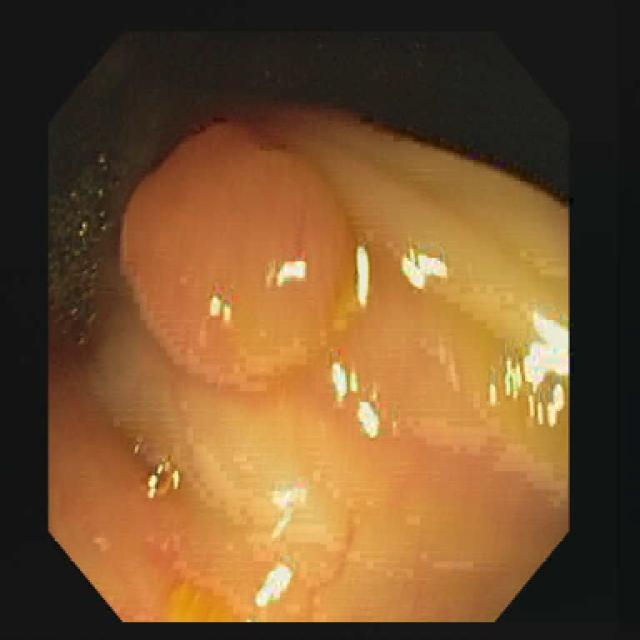tumor: (122, 124, 350, 378)
